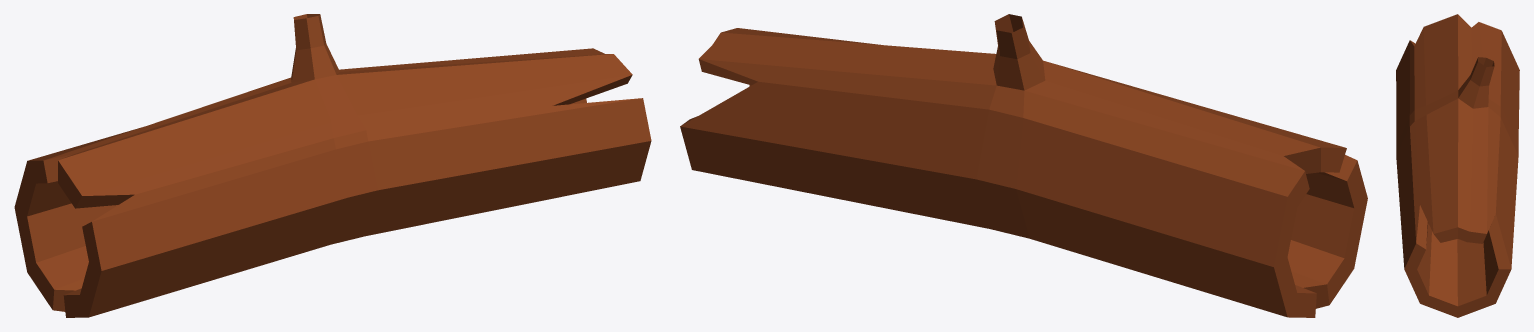
The model's file is Tree004_V6.fbx.
The picture shows the model from 3 angles, left to right: view 1: azimuth 30°, elevation 25°; view 2: azimuth 150°, elevation 25°; view 3: azimuth 270°, elevation 25°; orthographic projection. The views are drawn at different scales.
Parts seen in each view (by area): view 1: Plant010; view 2: Plant010; view 3: Plant010.
Part boxes in pixels (x1,y1,x2,y2): Plant010: (14, 14, 651, 317); Plant010: (680, 14, 1367, 317); Plant010: (1396, 14, 1519, 317).
Size of the model in its own units: 1.83 by 0.708 by 0.4958.
